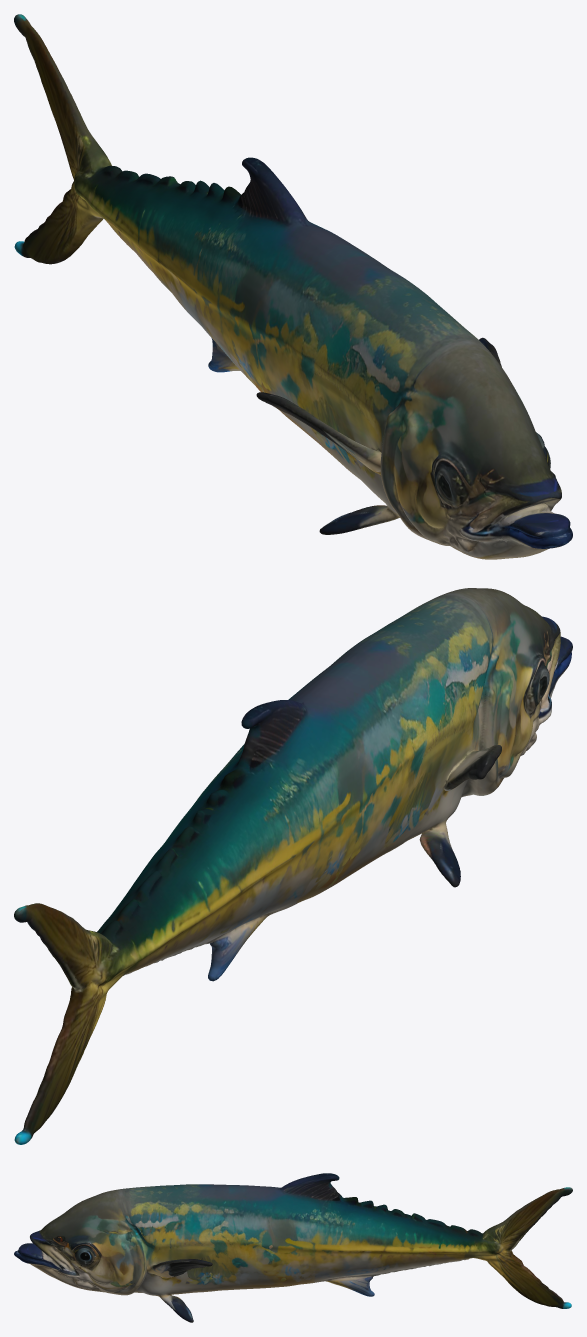
Rendered from fish_mahi_mahi.glb.
3 views of the same model, one above another, from view 1: azimuth 30°, elevation 25°; view 2: azimuth 150°, elevation 25°; view 3: azimuth 270°, elevation 25° (orthographic). The views are drawn at different scales.
Visible parts, largest first — view 1: tripo_node_f5459c92-9f21-49c0-837f-a3dea92081f9; view 2: tripo_node_f5459c92-9f21-49c0-837f-a3dea92081f9; view 3: tripo_node_f5459c92-9f21-49c0-837f-a3dea92081f9.
Boxes of the visible parts, <box> form: tripo_node_f5459c92-9f21-49c0-837f-a3dea92081f9: <box>14,14,572,559</box>; tripo_node_f5459c92-9f21-49c0-837f-a3dea92081f9: <box>14,588,572,1144</box>; tripo_node_f5459c92-9f21-49c0-837f-a3dea92081f9: <box>14,1173,572,1322</box>.
Size of the model in its own units: 0.2412 by 0.2666 by 1.
Materials: 1 (1 with a texture image).
